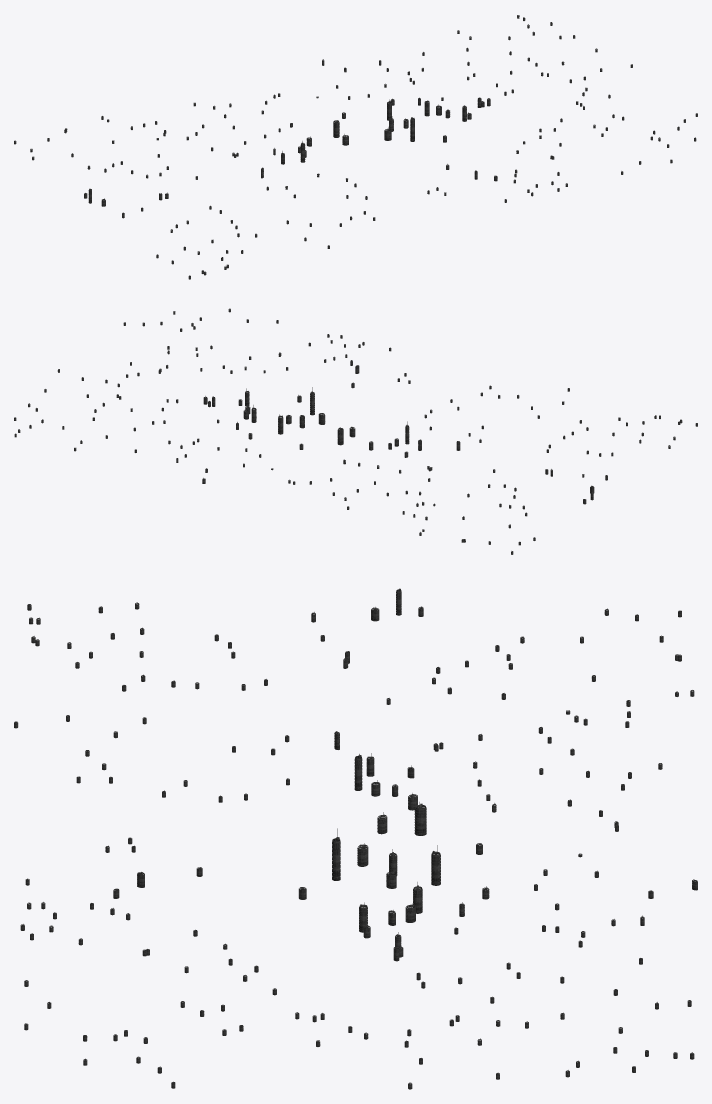
File: city-layer-3.glb
The picture shows the model from 3 angles, top to bottom: view 1: azimuth 30°, elevation 25°; view 2: azimuth 150°, elevation 25°; view 3: azimuth 270°, elevation 25°; orthographic projection. The views are drawn at different scales.
Parts seen in each view (by area): view 1: Scatter city_SC low-poly building facade_0.007, Scatter city_SC low-poly building facade_0.009, Scatter city_SC low-poly building facade_0.008, Scatter city_SC low-poly building facade_0.010, Scatter city_SC low-poly building facade_0.006, Scatter city_SC low-poly building facade_0.011; view 2: Scatter city_SC low-poly building facade_0.007, Scatter city_SC low-poly building facade_0.009, Scatter city_SC low-poly building facade_0.010, Scatter city_SC low-poly building facade_0.008, Scatter city_SC low-poly building facade_0.006, Scatter city_SC low-poly building facade_0.011; view 3: Scatter city_SC low-poly building facade_0.007, Scatter city_SC low-poly building facade_0.009, Scatter city_SC low-poly building facade_0.008, Scatter city_SC low-poly building facade_0.010, Scatter city_SC low-poly building facade_0.011, Scatter city_SC low-poly building facade_0.006.
Boxes of the visible parts, x1=… form: Scatter city_SC low-poly building facade_0.007: x1=14, y1=47, x2=660, y2=258; Scatter city_SC low-poly building facade_0.009: x1=30, y1=15, x2=641, y2=253; Scatter city_SC low-poly building facade_0.008: x1=101, y1=17, x2=603, y2=279; Scatter city_SC low-poly building facade_0.010: x1=101, y1=31, x2=696, y2=275; Scatter city_SC low-poly building facade_0.006: x1=32, y1=30, x2=652, y2=273; Scatter city_SC low-poly building facade_0.011: x1=84, y1=24, x2=697, y2=237; Scatter city_SC low-poly building facade_0.007: x1=105, y1=323, x2=670, y2=554; Scatter city_SC low-poly building facade_0.009: x1=14, y1=319, x2=627, y2=545; Scatter city_SC low-poly building facade_0.010: x1=35, y1=308, x2=682, y2=535; Scatter city_SC low-poly building facade_0.008: x1=14, y1=334, x2=697, y2=509; Scatter city_SC low-poly building facade_0.006: x1=57, y1=326, x2=680, y2=544; Scatter city_SC low-poly building facade_0.011: x1=28, y1=320, x2=586, y2=531; Scatter city_SC low-poly building facade_0.007: x1=20, y1=588, x2=681, y2=1043; Scatter city_SC low-poly building facade_0.009: x1=14, y1=614, x2=694, y2=1079; Scatter city_SC low-poly building facade_0.008: x1=27, y1=604, x2=677, y2=1072; Scatter city_SC low-poly building facade_0.010: x1=24, y1=612, x2=697, y2=1067; Scatter city_SC low-poly building facade_0.011: x1=24, y1=606, x2=678, y2=1088; Scatter city_SC low-poly building facade_0.006: x1=25, y1=608, x2=691, y2=1089.
Bounding box in the file's own units: 49.57 × 2.47 × 29.76.
1 material, 1 textured.
